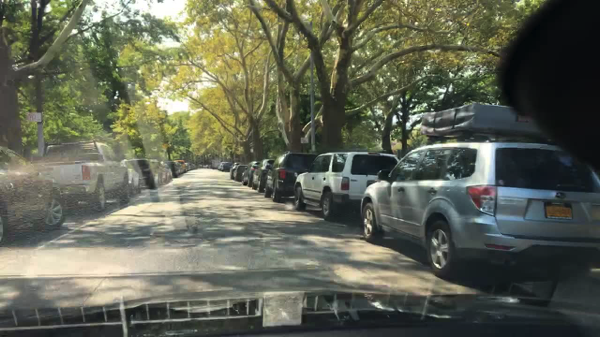car: (359, 103, 599, 286), (294, 154, 399, 220), (0, 146, 65, 244), (263, 154, 317, 203), (123, 160, 157, 189), (252, 159, 276, 191), (247, 160, 264, 187), (242, 161, 260, 185), (150, 160, 167, 184), (159, 162, 172, 181), (234, 163, 247, 180), (165, 161, 178, 177), (230, 162, 241, 179), (220, 162, 234, 171), (176, 160, 185, 174), (176, 162, 184, 174), (216, 160, 224, 170), (211, 161, 220, 169), (188, 163, 192, 171), (185, 163, 188, 172), (203, 165, 209, 169), (192, 164, 196, 169)
traffic sign: (27, 113, 41, 122), (299, 138, 309, 145)
truck: (34, 142, 129, 215)
